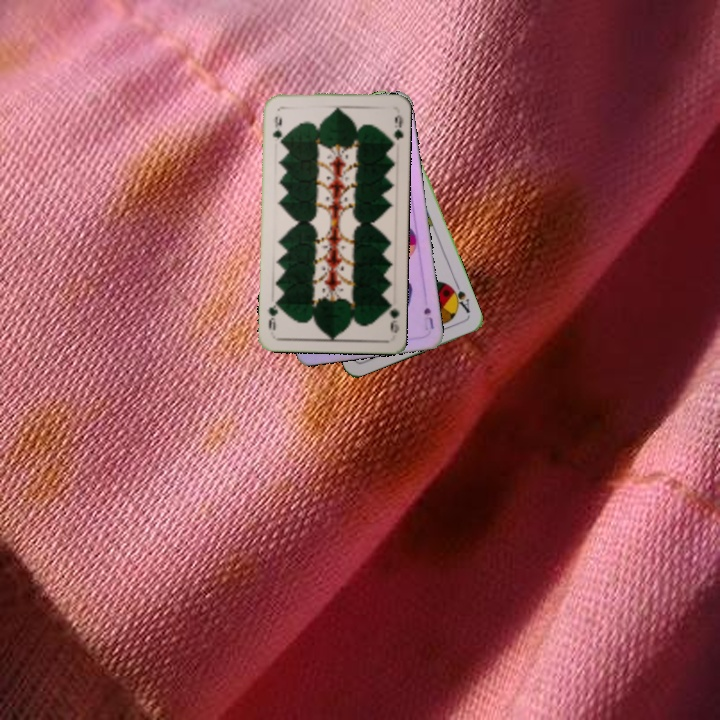G9: (382, 297, 402, 335), (268, 112, 285, 147)
SA: (446, 279, 473, 316)
SU: (420, 303, 436, 333)
